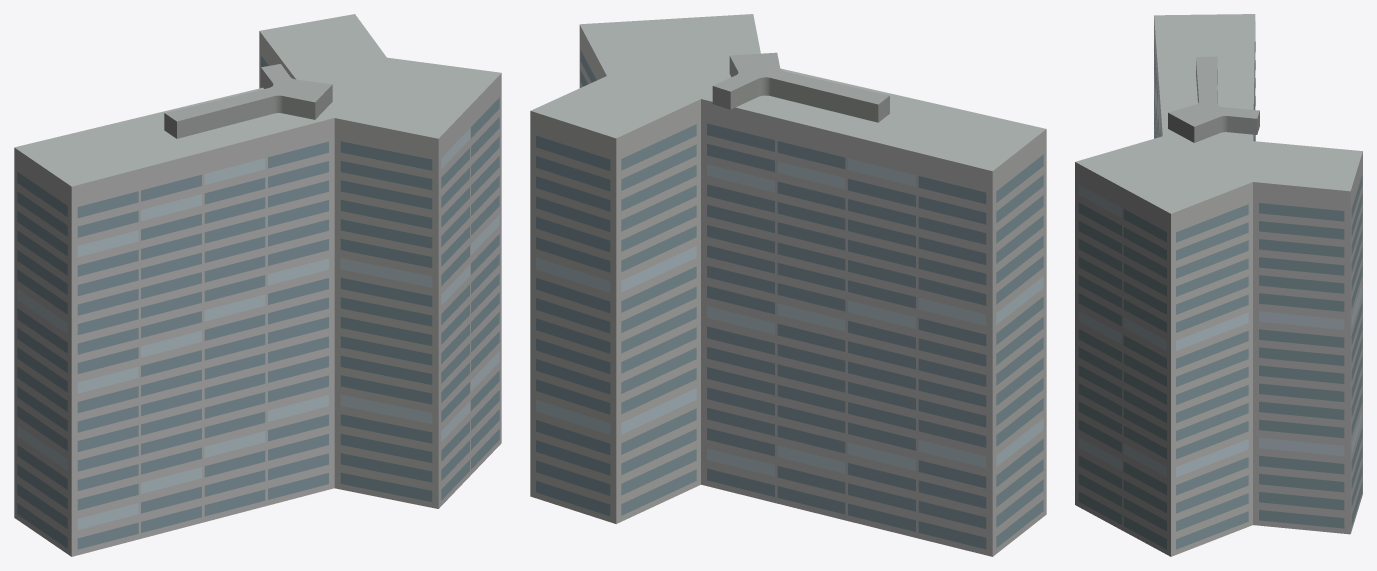
File: fallback-godeok-ipark-extension-105.glb
3 renders of one model, left to right at view 1: azimuth 30°, elevation 25°; view 2: azimuth 150°, elevation 25°; view 3: azimuth 270°, elevation 25°, orthographic. The views are drawn at different scales.
Parts seen in each view (by area): view 1: fallback-godeok-ipark-extension-105; view 2: fallback-godeok-ipark-extension-105; view 3: fallback-godeok-ipark-extension-105.
Boxes of the visible parts, bbox=[...] form: fallback-godeok-ipark-extension-105: bbox=[14, 14, 501, 556]; fallback-godeok-ipark-extension-105: bbox=[530, 14, 1046, 556]; fallback-godeok-ipark-extension-105: bbox=[1075, 14, 1362, 556].
Bounding box in the file's own units: 62.07 × 52 × 37.77.
